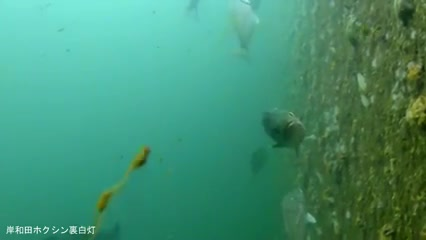smallfish: (264, 109, 307, 148)
